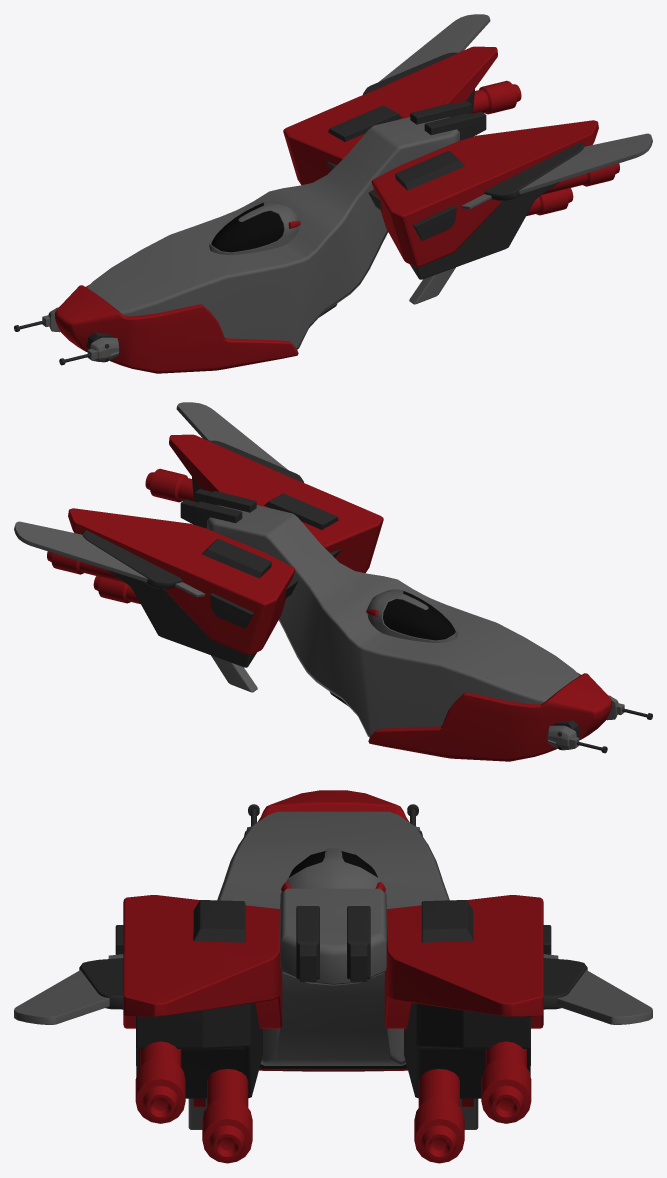
File: Frigate_04.fbx
3 renders of one model, top to bottom at view 1: azimuth 30°, elevation 25°; view 2: azimuth 150°, elevation 25°; view 3: azimuth 270°, elevation 25°, orthographic. The views are drawn at different scales.
Parts seen in each view (by area): view 1: Frigate_4; view 2: Frigate_4; view 3: Frigate_4.
Boxes of the visible parts, <box> form: Frigate_4: <box>14,14,652,373</box>; Frigate_4: <box>14,402,652,761</box>; Frigate_4: <box>14,790,652,1163</box>.
Bounding box in the file's own units: 4342 × 1426 × 2574.
